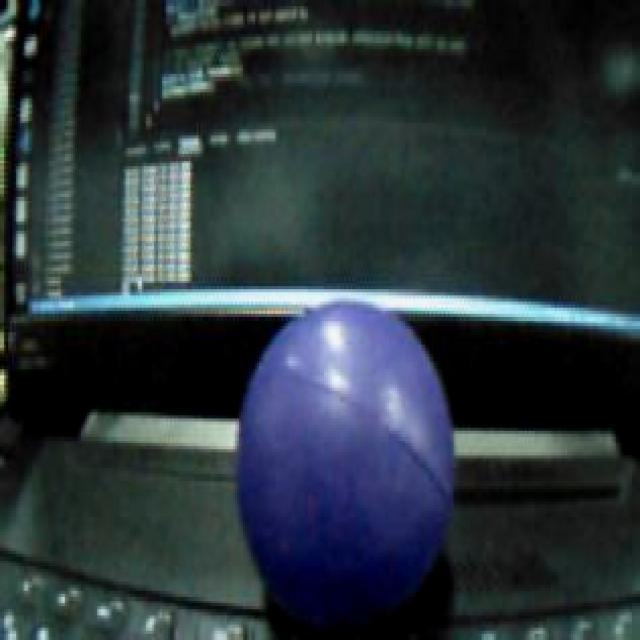BallPurple: (235, 298, 454, 616)
